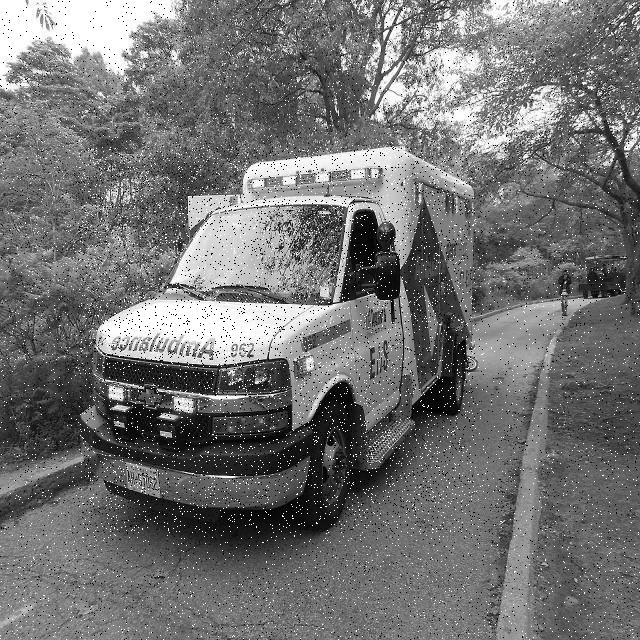Ambulance: (79, 147, 475, 533)
